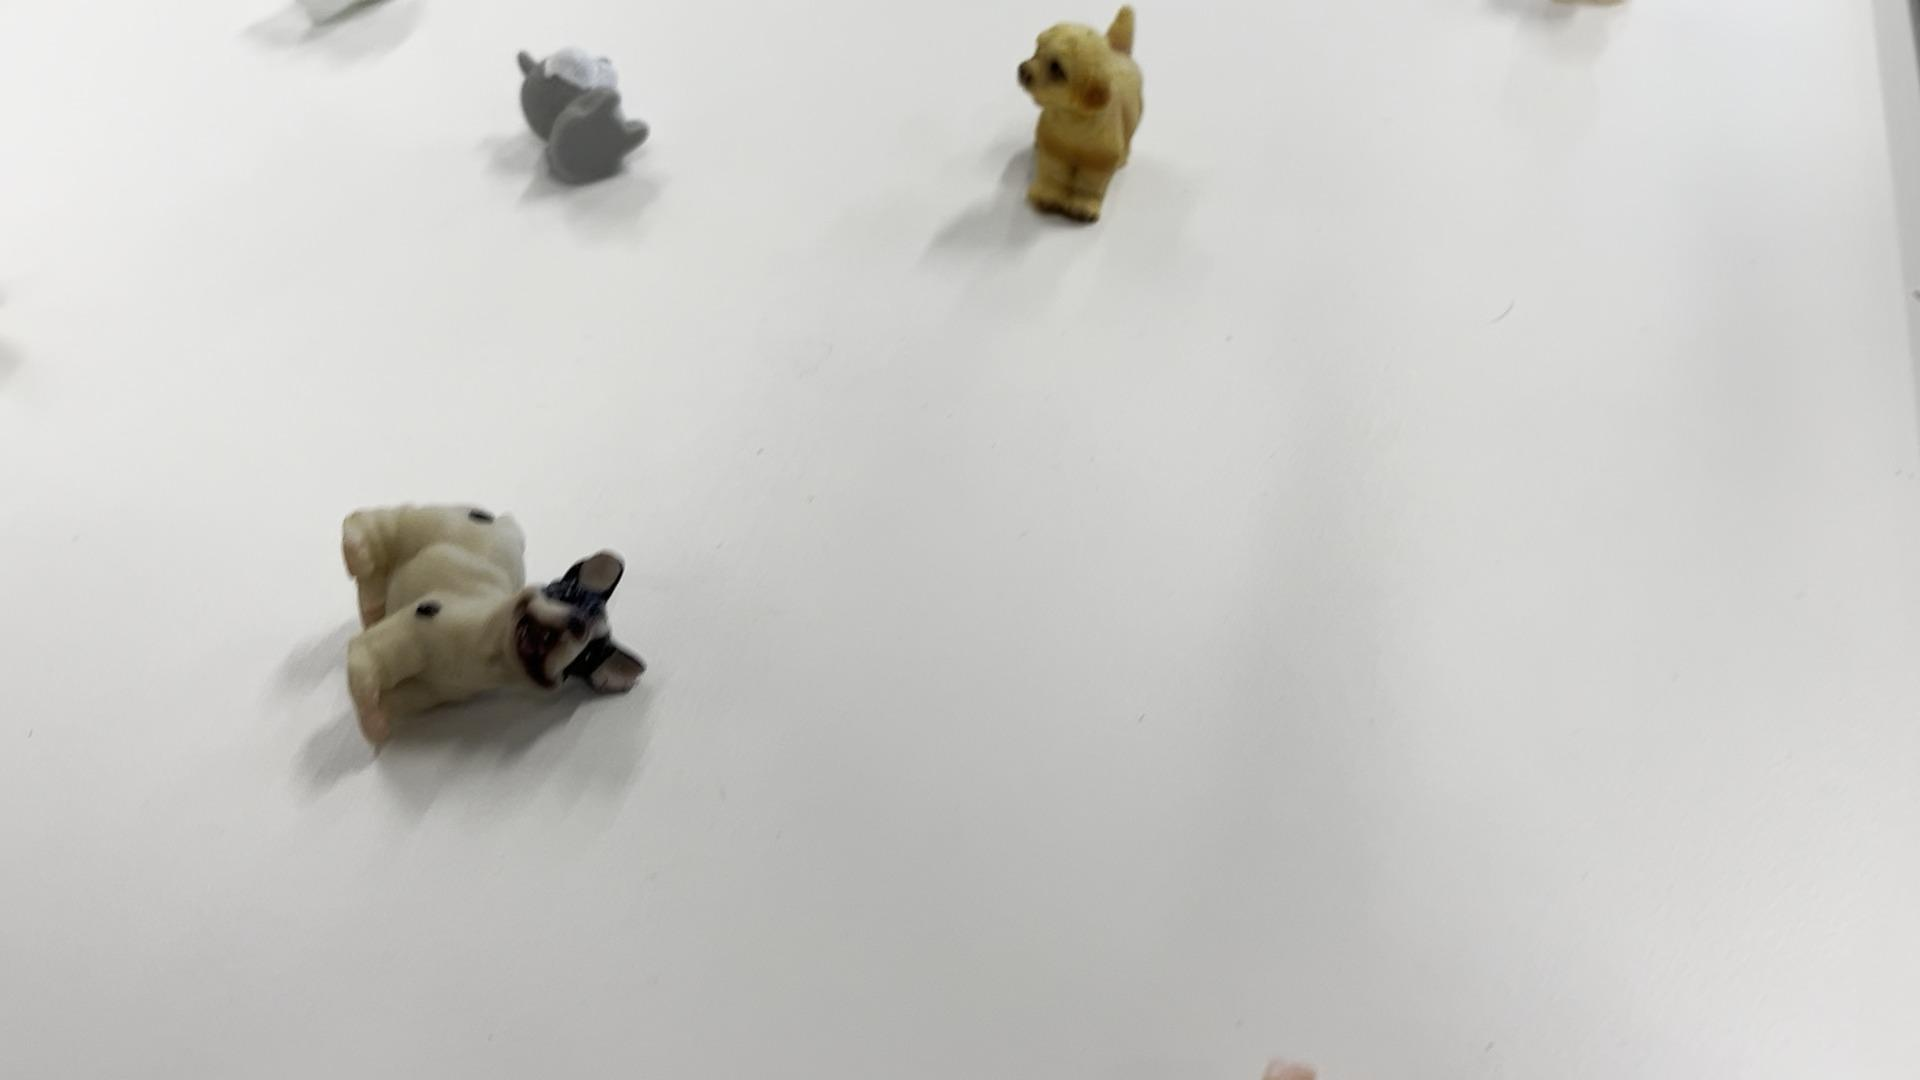pet: (339, 488, 653, 750), (1004, 0, 1163, 237), (506, 40, 658, 198)
